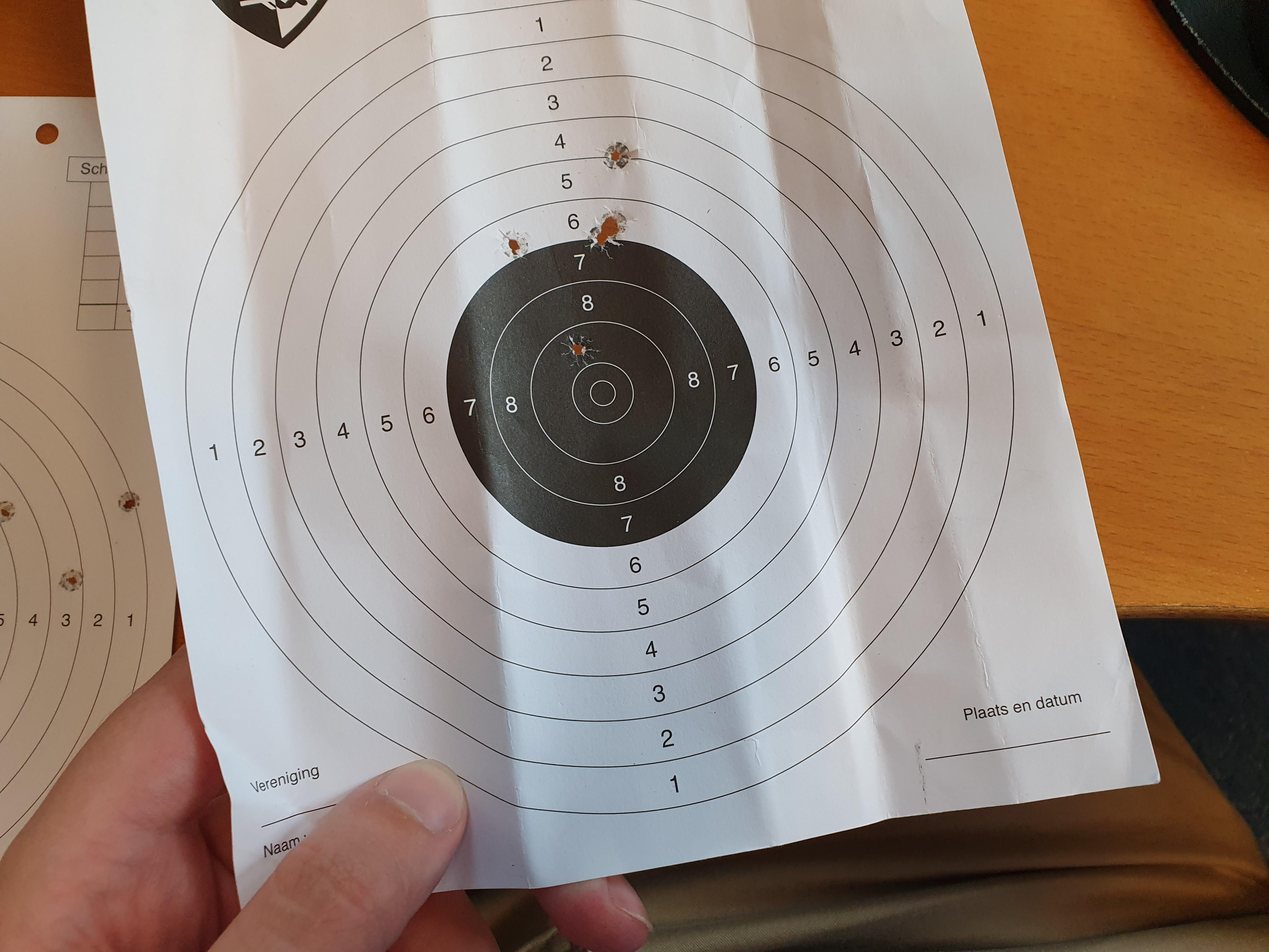hole: (1034, 447, 1091, 476), (918, 375, 968, 401), (781, 422, 835, 445), (950, 451, 997, 474), (926, 436, 964, 459)
